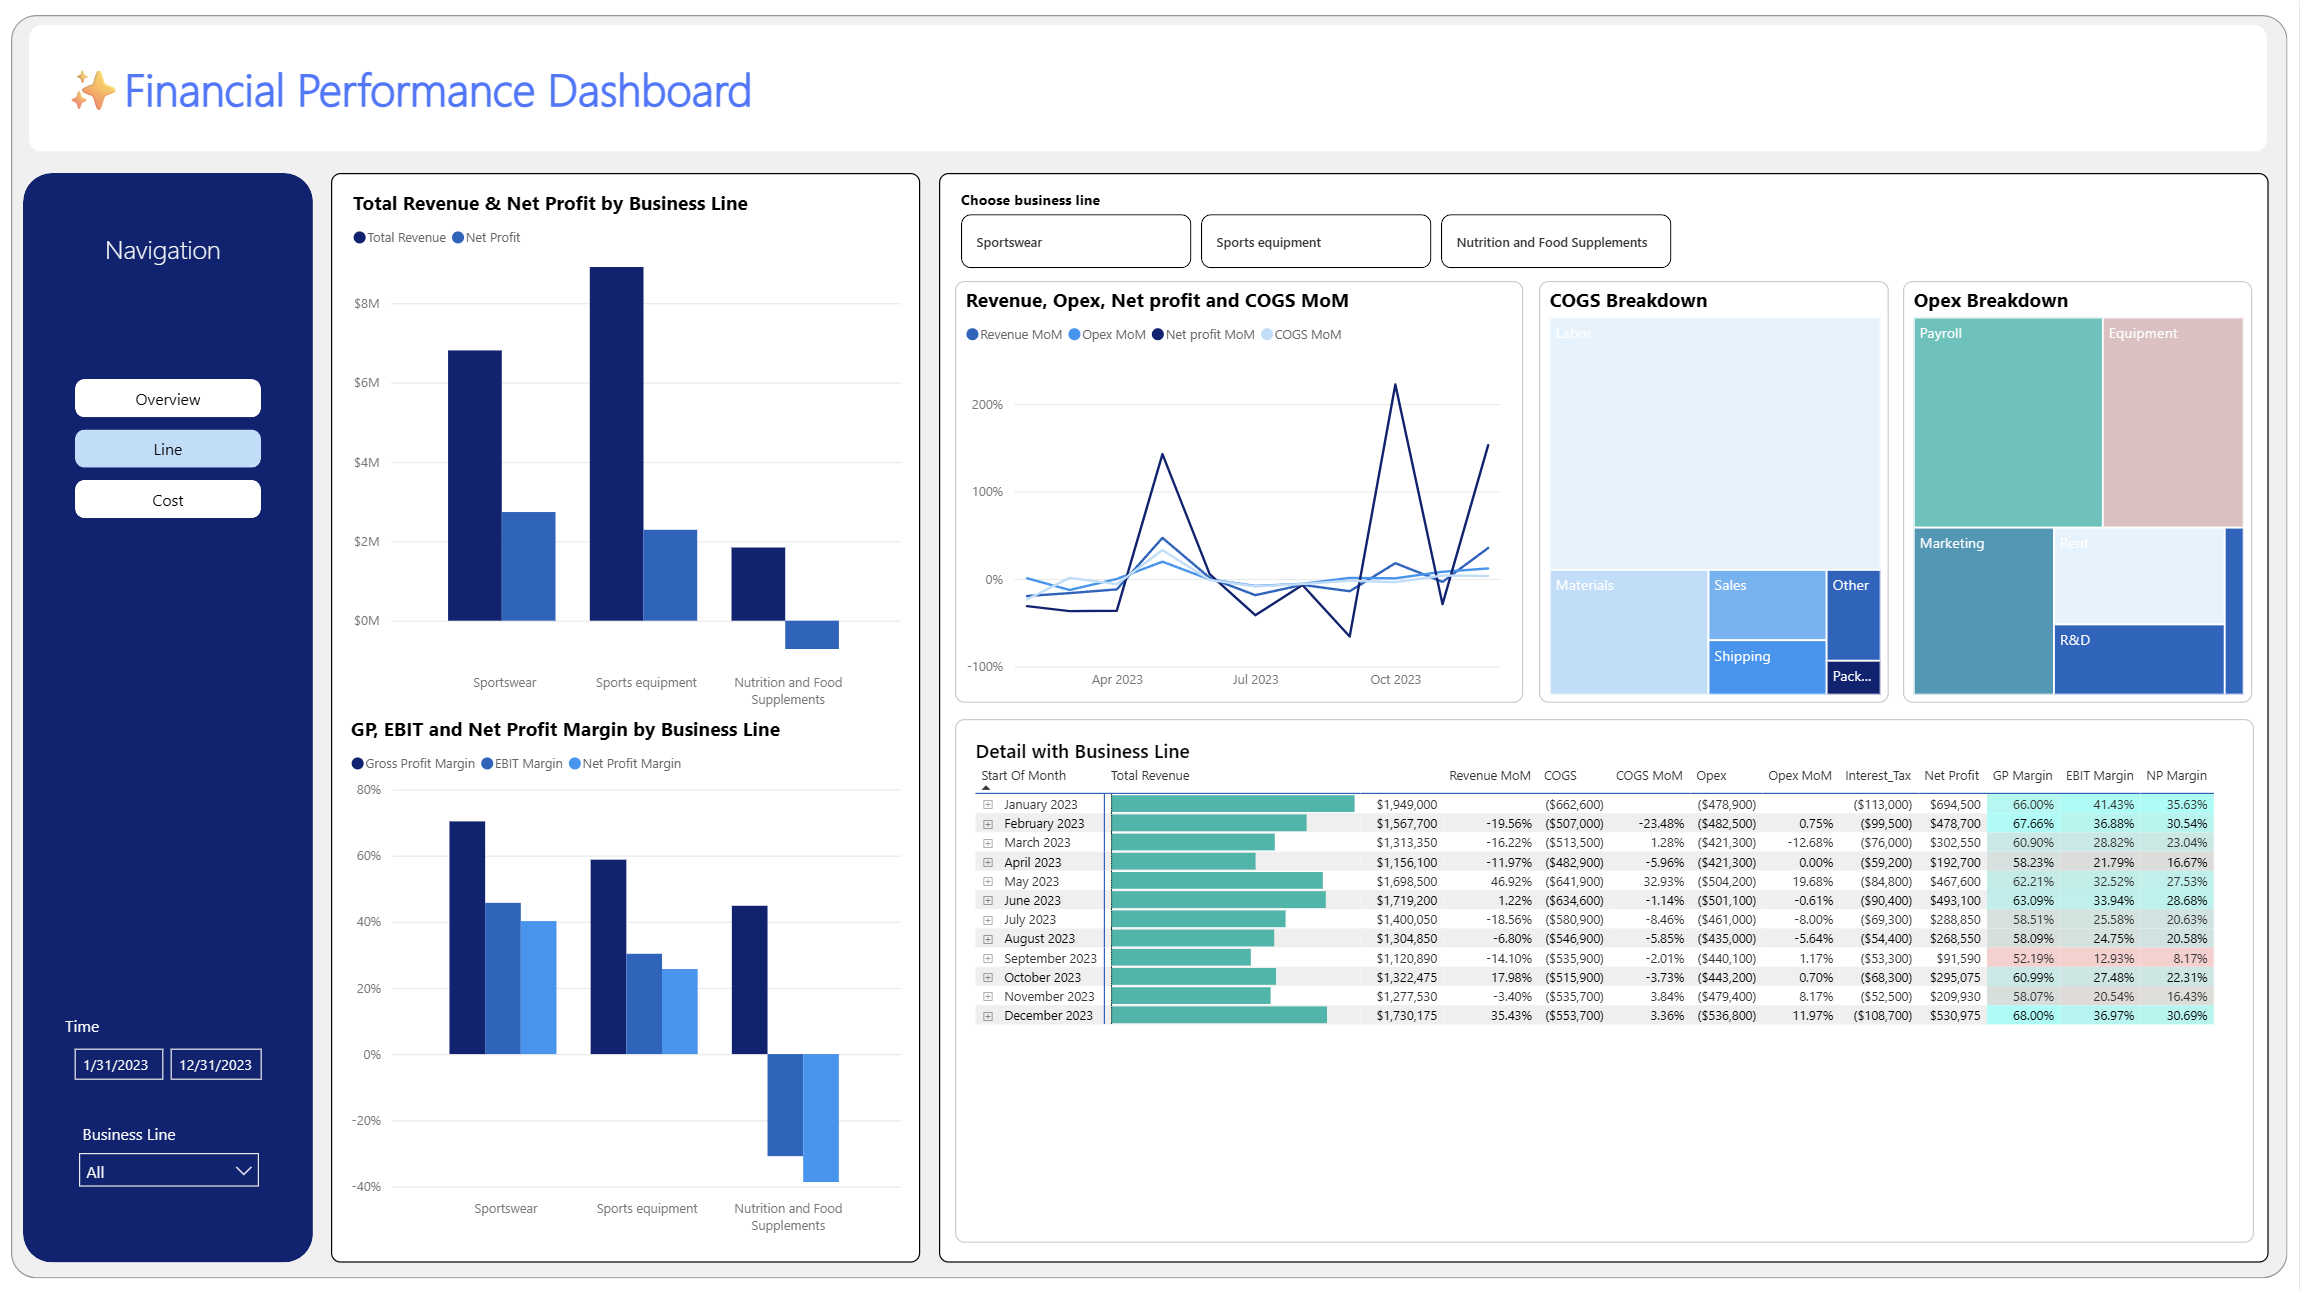

The page's visual inventory and layout, read from the dashboard file:
{"tool":"powerbi","page":{"name":"Line","canvas":[1920,1080],"ordinal":1},"visuals":[{"type":"shape","box":[12.8,14,1897.2,1052.8],"z":0},{"type":"shape","box":[27.9,22.1,1865,105.7],"z":2000},{"type":"textbox","box":[51.4,43.6,625,62.9],"z":3000},{"type":"shape","box":[22.7,144.5,241.7,907.9],"z":3000,"group":"g2"},{"type":"shape","box":[786.7,144.4,1107.8,907.8],"z":5000},{"type":"textbox","box":[85.7,187.2,115.7,42.9],"z":5000,"group":"g3"},{"type":"advancedSlicerVisual","title":"Choose business line","fields":{"Values":["Business Line.Business Line"]},"box":[800,158.2,603.6,71.8],"z":6000},{"type":"lineChart","title":"Revenue, Opex, Net profit and COGS MoM ","fields":{"Category":["Calendar.StartOfMonth"],"Y":["*Measure.Revenue MoM","*Measure.Opex MoM","*Measure.Net profit MoM","*Measure.COGS MoM"]},"box":[800,235.2,473.3,351.3],"z":7000},{"type":"shape","box":[280,145.6,490.9,908.2],"z":7500,"group":"g1"},{"type":"treemap","title":"COGS Breakdown","fields":{"Group":["Subgroup.Subgroup"],"Values":["Sum(Fact.Amount)"]},"box":[1285.8,235.1,291.7,351.7],"z":8000},{"type":"treemap","title":"Opex Breakdown","fields":{"Group":["Subgroup.Subgroup"],"Values":["Sum(Fact.Amount)"]},"box":[1590,235.1,290.8,351.7],"z":9000},{"type":"group","id":"g1","title":"Group 2","box":[280,145.6,490,907.8],"z":10000},{"type":"clusteredColumnChart","title":"GP, EBIT and Net Profit Margin by Business Line","fields":{"Category":["Business Line.Business Line"],"Y":["*Measure.Gross Profit Margin","*Measure.EBIT Margin","*Measure.Net Profit Margin"]},"box":[291.3,596.8,468.6,440],"z":11000,"group":"g1"},{"type":"clusteredColumnChart","title":"Total Revenue & Net Profit by Business Line","fields":{"Category":["Business Line.Business Line"],"Y":["*Measure.Total Revenue","*Measure.Net Profit"]},"box":[292.7,159.6,467.1,440],"z":12000,"group":"g1"},{"type":"pivotTable","title":"Detail with Business Line","fields":{"Rows":["Dim_calendar.StartOfMonth","Business Line.Business Line"],"Values":["*Measure.Total Revenue","*Measure.Total Revenue_1","*Measure.Revenue MoM","*Measure.Total COGS","*Measure.COGS MoM","*Measure.Total Opex","*Measure.Opex MoM","*Measure.Total Interest_Tax","*Measure.Net Profit","*Measure.Gross Profit Margin","*Measure.EBIT Margin","*Measure.Net Profit Margin"]},"box":[800,600,1082.7,436.4],"z":12000},{"type":"group","id":"g2","title":"Group 3","box":[22.7,144.5,241.7,907.9],"z":12001},{"type":"pageNavigator","box":[66.1,315.1,155,117.5],"z":18000,"group":"g3"},{"type":"slicer","title":"Time","fields":{"Values":["dim_calendar.Date"]},"box":[52.3,845.1,182.5,66.2],"z":19000,"group":"g3"},{"type":"slicer","fields":{"Values":["Business Line.Business Line"]},"box":[58.5,930.9,170,66.7],"z":20000,"group":"g3"},{"type":"group","id":"g3","title":"Group 1","box":[52.3,187.2,182.5,810.4],"z":20001,"group":"g2"}]}

Visuals, with their boxes in screenshot pixels (x1, y1, x2, y2), scaled from the page's 1920x1080 canvas onto the 2300x1292 screenshot:
shape: left=15, top=17, right=2288, bottom=1276
shape: left=33, top=26, right=2268, bottom=153
textbox: left=62, top=52, right=810, bottom=127
shape: left=27, top=173, right=317, bottom=1259
shape: left=942, top=173, right=2269, bottom=1259
textbox: left=103, top=224, right=241, bottom=275
"Choose business line" advancedSlicerVisual: left=958, top=189, right=1681, bottom=275
"Revenue, Opex, Net profit and COGS MoM " lineChart: left=958, top=281, right=1525, bottom=702
shape: left=335, top=174, right=923, bottom=1261
"COGS Breakdown" treemap: left=1540, top=281, right=1890, bottom=702
"Opex Breakdown" treemap: left=1905, top=281, right=2253, bottom=702
"Group 2" group: left=335, top=174, right=922, bottom=1260
"GP, EBIT and Net Profit Margin by Business Line" clusteredColumnChart: left=349, top=714, right=910, bottom=1240
"Total Revenue & Net Profit by Business Line" clusteredColumnChart: left=351, top=191, right=910, bottom=717
"Detail with Business Line" pivotTable: left=958, top=718, right=2255, bottom=1240
"Group 3" group: left=27, top=173, right=317, bottom=1259
pageNavigator: left=79, top=377, right=265, bottom=518
"Time" slicer: left=63, top=1011, right=281, bottom=1090
slicer - Business Line.Business Line: left=70, top=1114, right=274, bottom=1193
"Group 1" group: left=63, top=224, right=281, bottom=1193
